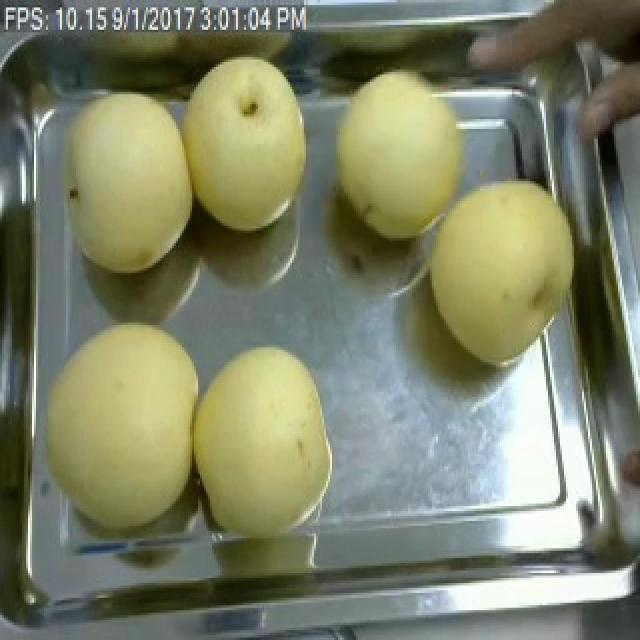Fruit: (28, 308, 214, 538), (412, 159, 594, 377), (312, 52, 490, 256), (42, 77, 208, 285), (190, 332, 344, 544), (168, 42, 326, 246)
